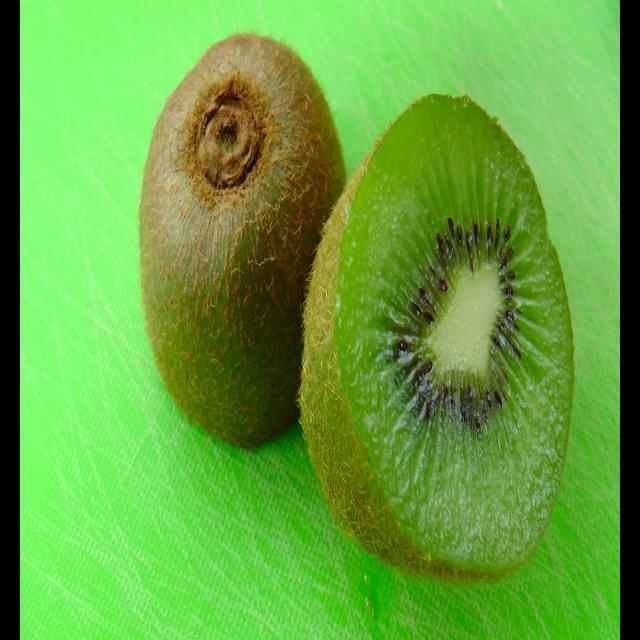Qiwi: (306, 107, 576, 565), (144, 62, 330, 458)
